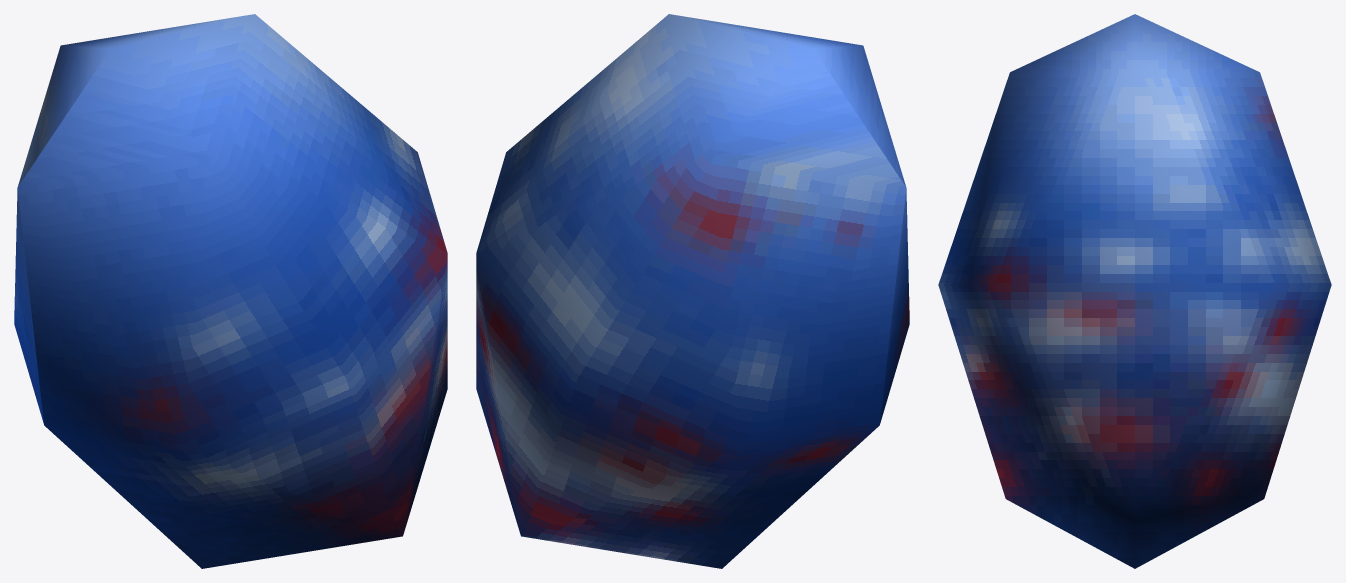
The model's file is BlueBean.fbx.
The picture shows the model from 3 angles, left to right: view 1: azimuth 30°, elevation 25°; view 2: azimuth 150°, elevation 25°; view 3: azimuth 270°, elevation 25°; orthographic projection. The views are drawn at different scales.
Parts seen in each view (by area): view 1: material_0; view 2: material_0; view 3: material_0.
Boxes of the visible parts, x1,y1,x2,y2 form: material_0: (14,14,447,568); material_0: (476,14,909,568); material_0: (938,14,1331,568).
Size of the model in its own units: 979 by 1200 by 938.
